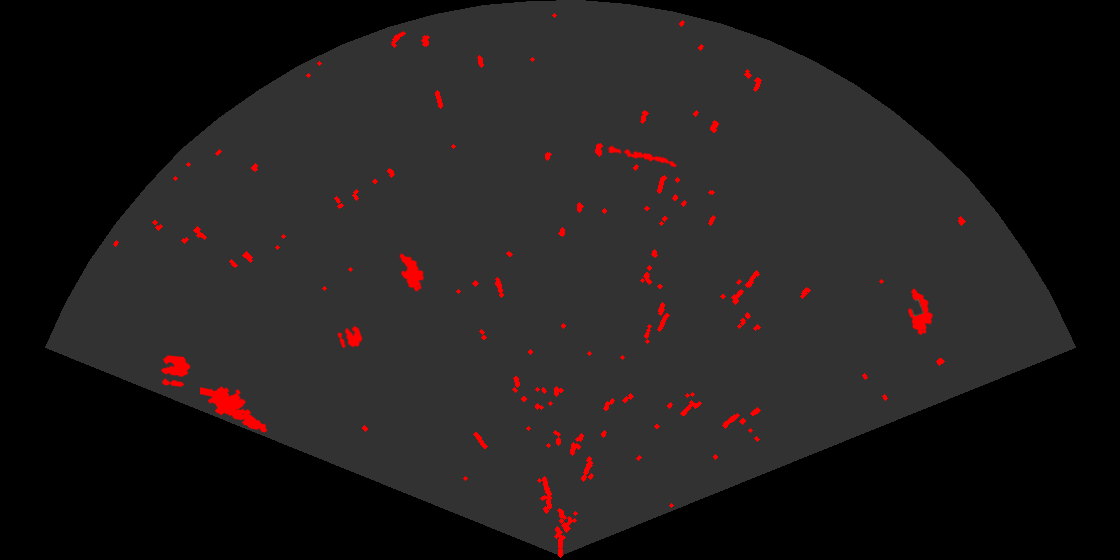AUV: (906, 287, 934, 337), (398, 252, 426, 293)
ball: (159, 354, 192, 388), (336, 324, 364, 350)
chain: (606, 144, 679, 169)
frogman: (200, 385, 269, 434)
